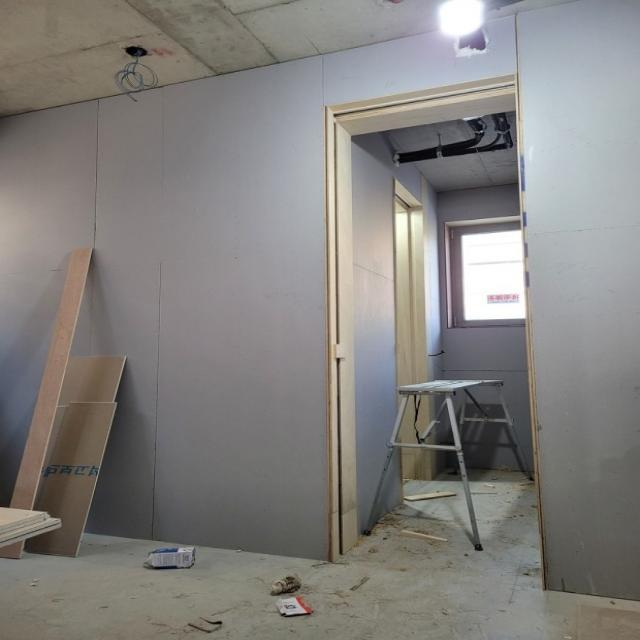board: (24, 402, 117, 558), (57, 356, 126, 406), (0, 522, 61, 548), (0, 518, 61, 542), (0, 507, 47, 530), (0, 515, 50, 534)
wood: (0, 246, 93, 558)
